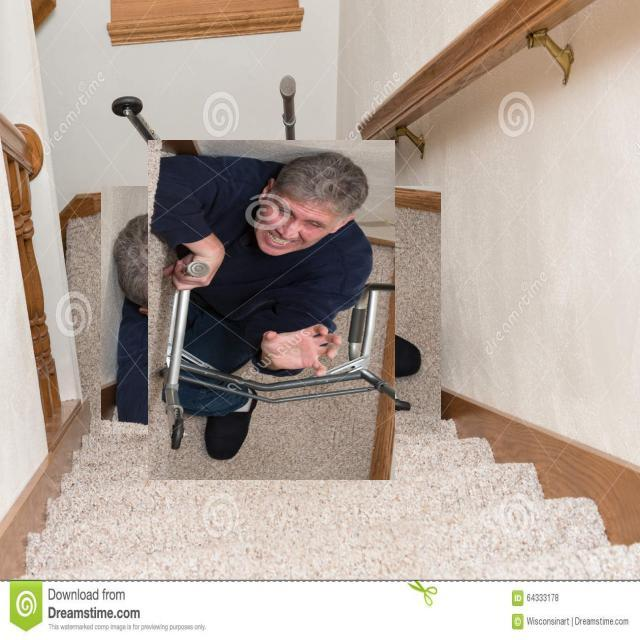Fall: (151, 138, 394, 481)
